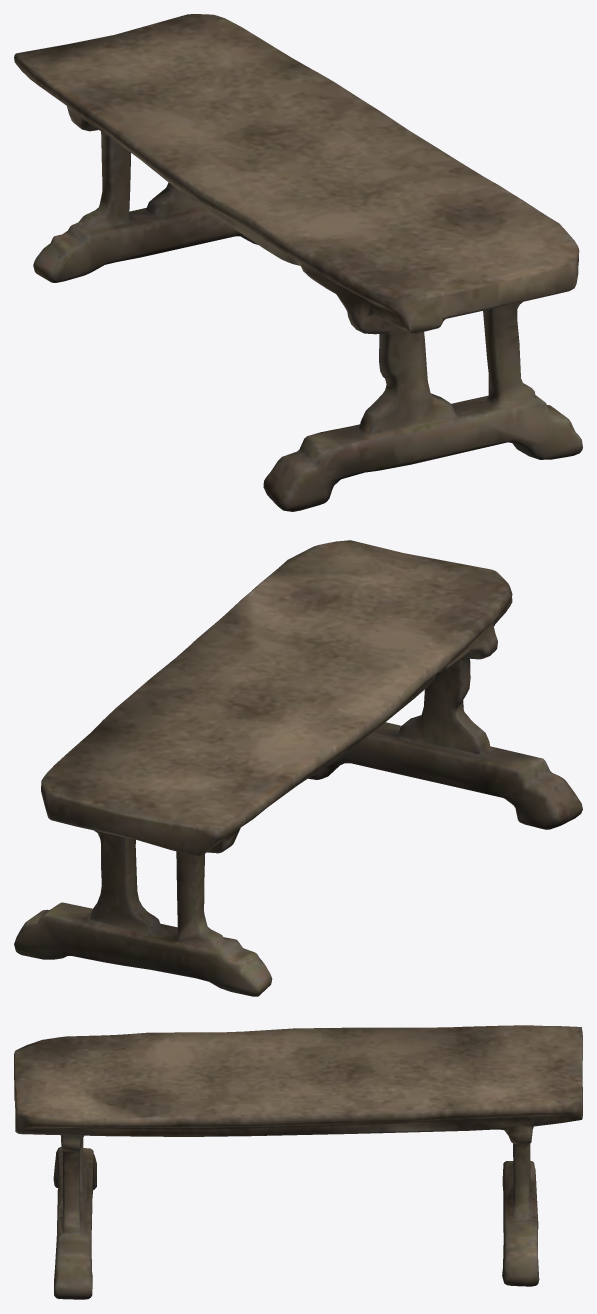
File: sturdy-wood-banquet-table-v002.glb
3 views of the same model, one above another, from view 1: azimuth 30°, elevation 25°; view 2: azimuth 150°, elevation 25°; view 3: azimuth 270°, elevation 25° (orthographic). The views are drawn at different scales.
Visible parts, largest first — view 1: sturdy-wood-banquet-table; view 2: sturdy-wood-banquet-table; view 3: sturdy-wood-banquet-table.
Boxes of the visible parts, x1,y1,x2,y2 form: sturdy-wood-banquet-table: (14,14,582,511); sturdy-wood-banquet-table: (14,540,582,996); sturdy-wood-banquet-table: (14,1025,582,1299).
Bounding box in the file's own units: 1.16 × 0.818 × 2.34.
Materials: 1 (1 with a texture image).
